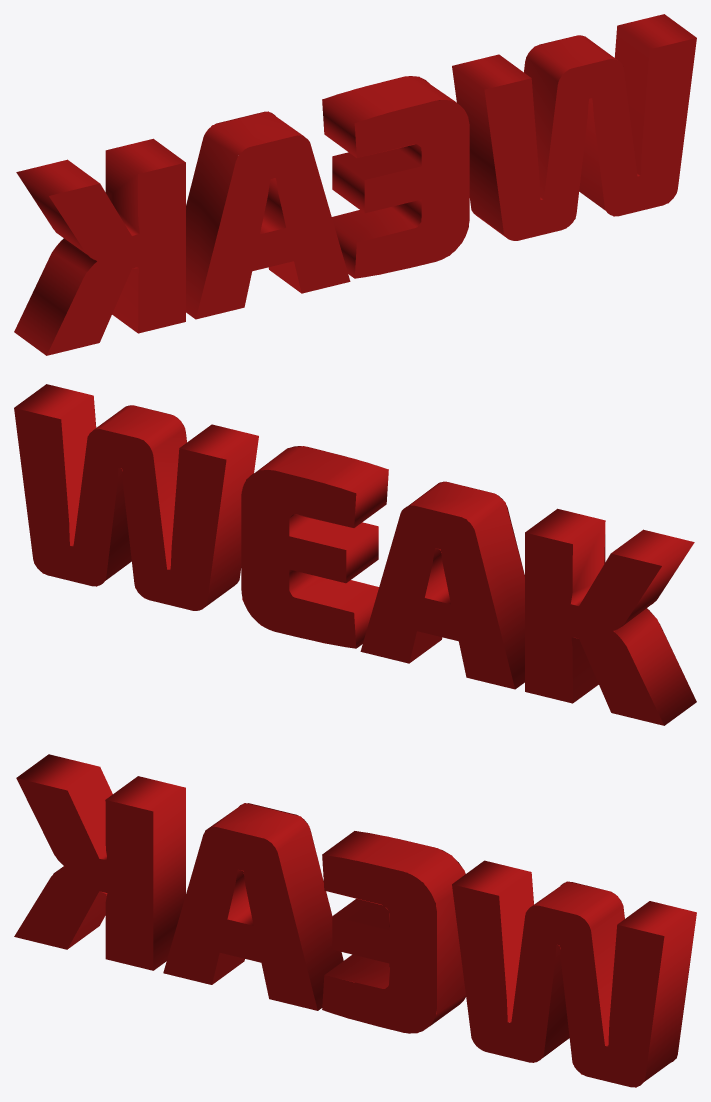
The model's file is weak.fbx.
3 renders of one model, top to bottom at view 1: azimuth 30°, elevation 25°; view 2: azimuth 150°, elevation 25°; view 3: azimuth 330°, elevation 25°, orthographic.
Parts seen in each view (by area): view 1: Text; view 2: Text; view 3: Text.
Boxes of the visible parts, left/top/right/bottom form: Text: left=14, top=14, right=696, bottom=355; Text: left=14, top=384, right=696, bottom=725; Text: left=14, top=754, right=696, bottom=1087.
Bounding box in the file's own units: 9.23 × 2.19 × 0.8.
